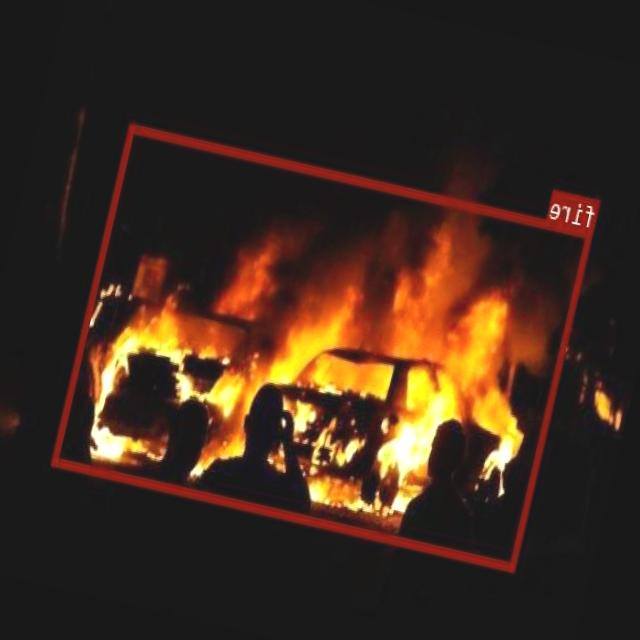fire: (52, 123, 594, 570)
